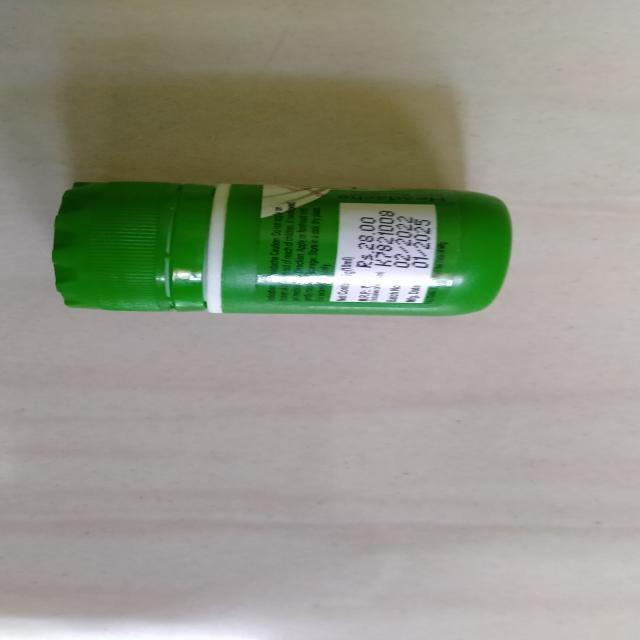eucalyptus oil: (43, 178, 507, 314)
